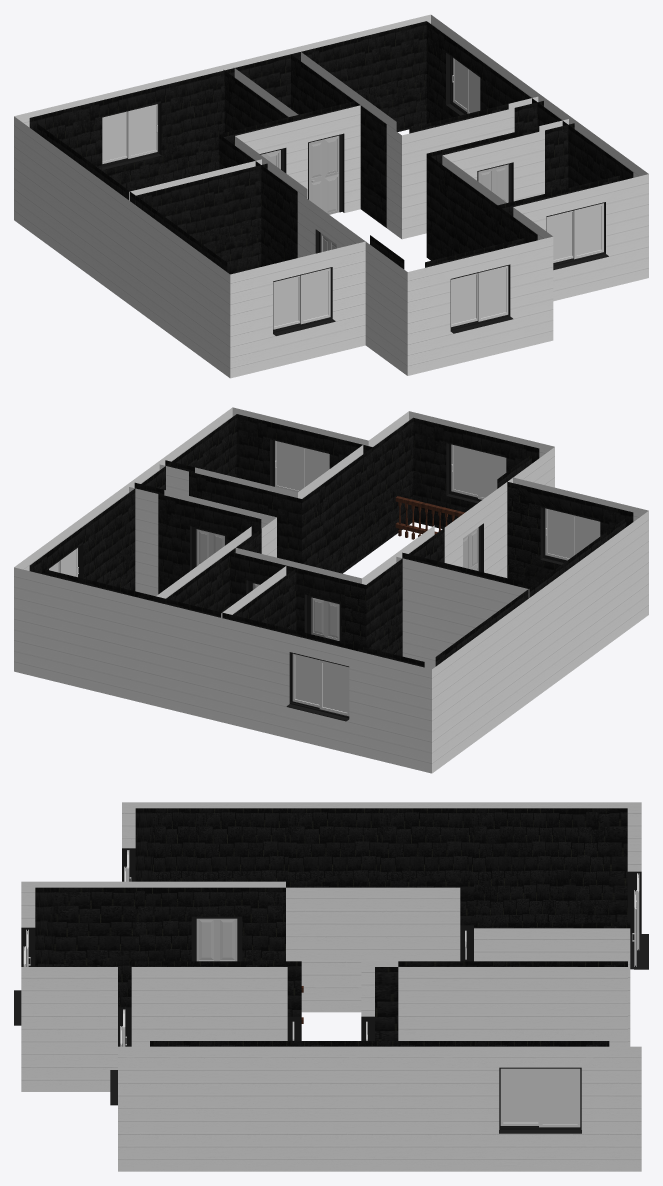
The model's file is 2ndFloor_Walls.fbx.
3 views of the same model, one above another, from view 1: azimuth 30°, elevation 25°; view 2: azimuth 150°, elevation 25°; view 3: azimuth 270°, elevation 25° (orthographic). The views are drawn at different scales.
Parts seen in each view (by area): view 1: Window_Wall.010, Window_Wall.011, Window_Wall.007, Wall_3m.019, Window_Wall.009, Wall_3m.022, Wall_2m.004, Wall_2m.002, Wall_2m.005, Wall_3m.020, Wall_3m.017, Door_Wall.008 (+45 smaller); view 2: Wall_3m.024, Window_Wall.007, Wall_3m.021, Wall_3m.019, Wall_3m.017, Window_Wall.010, Wall_3m.022, Wall_2m.001, Wall_3m.020, Door_Wall.010, Window_Wall.011, Wall_2m.004 (+46 smaller); view 3: Wall_3m.019, Window_Wall, Wall_3m.003, Wall_3m.015, Wall_3m.023, Wall_3m.017, Wall_3m.016, Wall_3m.014, Door_Wall.005, Wall_2m.004, Wall_1m.017, Wall_2m.005 (+23 smaller).
Part boxes in pixels (box(x1,y1,x2,y2)): Window_Wall.010: box(253, 241, 365, 372); Window_Wall.011: box(425, 238, 530, 370); Window_Wall.007: box(76, 76, 181, 191); Wall_3m.019: box(27, 124, 94, 271); Window_Wall.009: box(520, 175, 625, 301); Wall_3m.022: box(129, 167, 234, 274); Wall_2m.004: box(84, 166, 132, 299); Wall_2m.002: box(161, 222, 209, 355); Wall_2m.005: box(123, 194, 171, 327); Wall_3m.020: box(176, 65, 229, 178); Wall_3m.017: box(440, 161, 506, 258); Door_Wall.008: box(440, 126, 544, 202); Wall_3m.024: box(144, 595, 226, 721); Window_Wall.007: box(269, 625, 374, 757); Wall_3m.021: box(70, 577, 150, 703); Wall_3m.019: box(435, 615, 502, 763); Wall_3m.017: box(305, 445, 372, 573); Window_Wall.010: box(507, 477, 625, 584); Wall_3m.022: box(429, 560, 534, 669); Wall_2m.001: box(369, 650, 424, 770); Wall_3m.020: box(221, 614, 275, 733); Door_Wall.010: box(158, 490, 263, 594); Window_Wall.011: box(426, 417, 531, 528); Wall_2m.004: box(493, 587, 541, 721); Wall_3m.019: box(471, 802, 609, 922); Window_Wall: box(471, 1041, 609, 1171); Wall_3m.003: box(373, 1041, 471, 1171); Wall_3m.015: box(196, 1041, 287, 1171); Wall_3m.023: box(286, 881, 386, 1012); Wall_3m.017: box(131, 961, 269, 1046); Wall_3m.016: box(490, 961, 627, 1046); Wall_3m.014: box(287, 1041, 372, 1171); Door_Wall.005: box(135, 881, 285, 961); Wall_2m.004: box(379, 802, 471, 881); Wall_1m.017: box(398, 961, 489, 1040); Wall_2m.005: box(288, 802, 379, 881).
Bounding box in the file's own units: 1275 × 302 × 1382.
